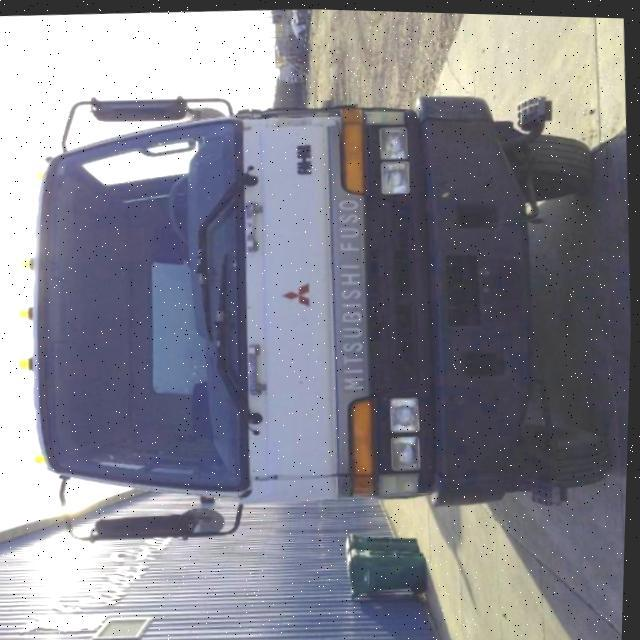truck: (4, 70, 626, 558)
